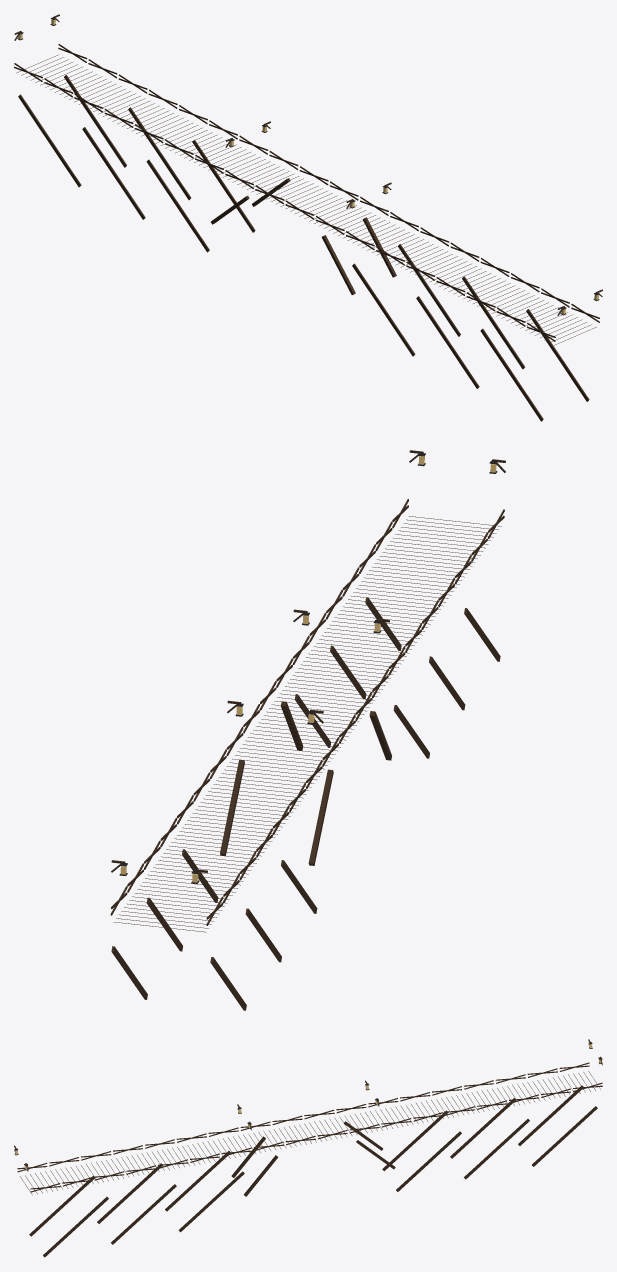
File: SM_Bridge_ForestTrail_NoCol.fbx
The picture shows the model from 3 angles, top to bottom: view 1: azimuth 30°, elevation 25°; view 2: azimuth 150°, elevation 25°; view 3: azimuth 270°, elevation 25°; orthographic projection. The views are drawn at different scales.
Parts seen in each view (by area): view 1: SM_Bridge_ForestTrail_NoCol; view 2: SM_Bridge_ForestTrail_NoCol; view 3: SM_Bridge_ForestTrail_NoCol.
Boxes of the visible parts, <box> form: SM_Bridge_ForestTrail_NoCol: <box>14,14,602,421</box>; SM_Bridge_ForestTrail_NoCol: <box>110,450,505,1010</box>; SM_Bridge_ForestTrail_NoCol: <box>14,1039,602,1257</box>.
Bounding box in the file's own units: 12.7 × 8.9 × 35.98.
